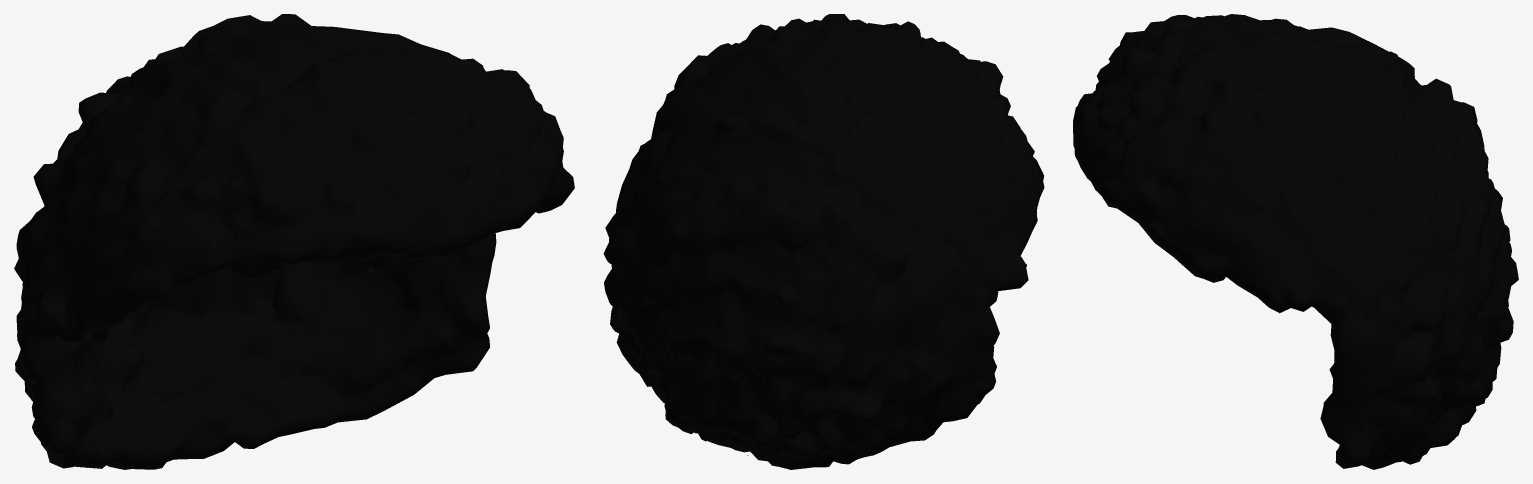
File: messy black.glb
3 renders of one model, left to right at view 1: azimuth 30°, elevation 25°; view 2: azimuth 150°, elevation 25°; view 3: azimuth 270°, elevation 25°, orthographic. The views are drawn at different scales.
Parts seen in each view (by area): view 1: hair_short_messy_black.001; view 2: hair_short_messy_black.001; view 3: hair_short_messy_black.001.
Boxes of the visible parts, left/top/right/bottom form: hair_short_messy_black.001: left=14, top=14, right=574, bottom=469; hair_short_messy_black.001: left=603, top=14, right=1044, bottom=469; hair_short_messy_black.001: left=1073, top=14, right=1518, bottom=469.
Size of the model in its own units: 0.3464 by 0.3185 by 0.3188.
1 material, 1 textured.
